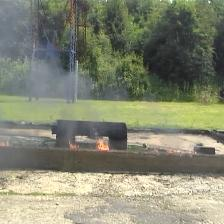fire: (95, 136, 111, 151)
smoke: (43, 74, 83, 112)
